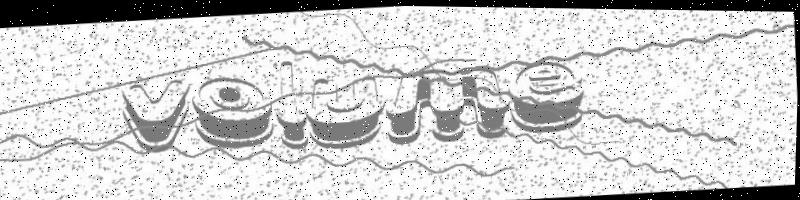e: (506, 50, 590, 134)
l: (273, 55, 314, 153)
m: (384, 55, 516, 145)
o: (185, 67, 280, 154)
u: (303, 65, 390, 152)
v: (114, 75, 197, 157)
